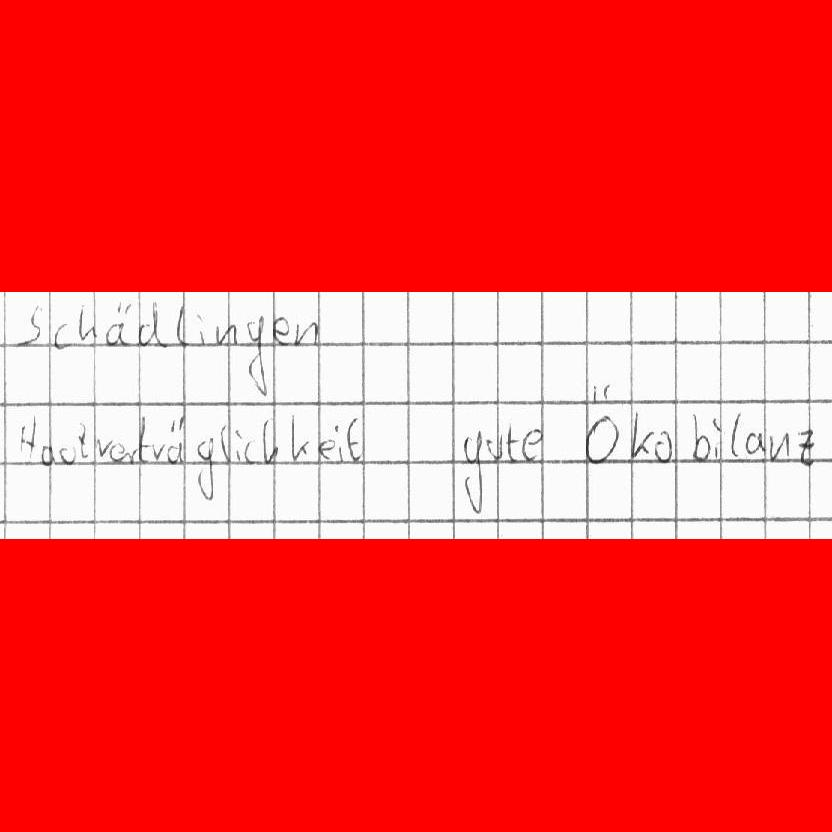Char: (583, 383, 619, 464), (463, 432, 491, 518), (245, 313, 269, 396), (629, 406, 655, 462), (195, 433, 215, 501), (689, 407, 712, 464), (14, 302, 42, 348), (137, 301, 164, 348), (104, 299, 128, 347), (289, 414, 310, 462), (165, 412, 182, 465), (128, 417, 148, 462), (520, 426, 544, 463), (76, 301, 96, 344), (343, 417, 362, 462), (261, 416, 279, 463), (795, 425, 816, 465), (319, 425, 341, 463), (19, 415, 37, 461), (175, 300, 192, 348), (652, 429, 675, 463), (726, 409, 741, 459), (293, 319, 319, 347), (767, 430, 790, 461), (503, 423, 521, 462), (51, 320, 71, 353), (214, 320, 237, 347), (272, 315, 292, 344), (220, 427, 236, 461), (75, 420, 88, 458), (712, 415, 723, 459), (744, 432, 764, 456), (486, 432, 502, 461), (107, 439, 127, 462), (194, 316, 209, 346), (242, 438, 259, 462), (57, 441, 74, 464), (95, 436, 112, 459), (40, 444, 54, 468), (150, 440, 164, 462), (234, 429, 242, 461)
